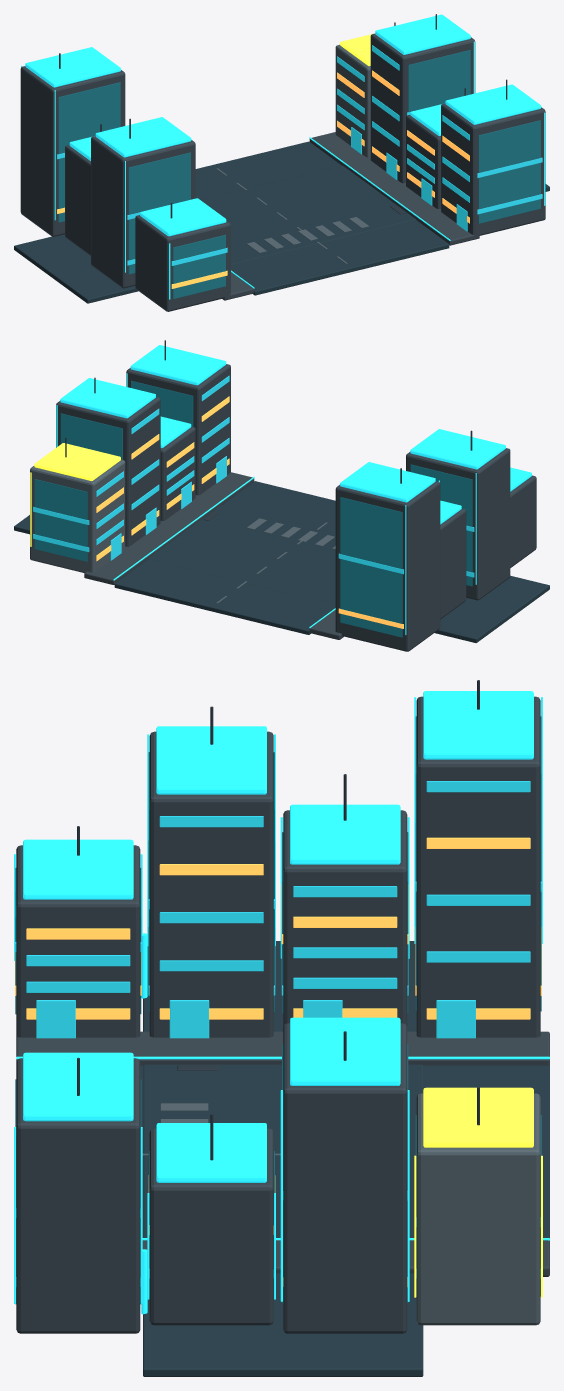
File: crossroads_lod0.glb
The picture shows the model from 3 angles, top to bottom: view 1: azimuth 30°, elevation 25°; view 2: azimuth 150°, elevation 25°; view 3: azimuth 270°, elevation 25°; orthographic projection. The views are drawn at different scales.
Visible parts, largest first — view 1: ND_Batch_ND_CityConcrete, ND_Batch_ND_WetAsphalt, ND_Batch_ND_DarkGlass, ND_Batch_ND_CityCyanMuted, ND_Batch_ND_NeonGlass, ND_Batch_ND_RoadEdge, ND_Batch_ND_CityConcreteLight, ND_Batch_ND_WarmWindow, ND_Batch_ND_PackageGold; view 2: ND_Batch_ND_CityConcrete, ND_Batch_ND_WetAsphalt, ND_Batch_ND_DarkGlass, ND_Batch_ND_CityCyanMuted, ND_Batch_ND_CityConcreteLight, ND_Batch_ND_RoadEdge, ND_Batch_ND_NeonGlass, ND_Batch_ND_PackageGold, ND_Batch_ND_WarmWindow; view 3: ND_Batch_ND_CityConcrete, ND_Batch_ND_CityCyanMuted, ND_Batch_ND_WetAsphalt, ND_Batch_ND_CityConcreteLight, ND_Batch_ND_NeonGlass, ND_Batch_ND_RoadEdge, ND_Batch_ND_WarmWindow, ND_Batch_ND_PackageGold, ND_Batch_ND_DarkGlass, ND_Batch_ND_RooftopMetal.
Boxes of the visible parts, box(x1,y1,x2,y2) form: ND_Batch_ND_CityConcrete: box(20, 33, 545, 311); ND_Batch_ND_WetAsphalt: box(14, 141, 549, 303); ND_Batch_ND_DarkGlass: box(58, 50, 540, 298); ND_Batch_ND_CityCyanMuted: box(21, 14, 545, 299); ND_Batch_ND_NeonGlass: box(57, 45, 542, 265); ND_Batch_ND_RoadEdge: box(222, 132, 479, 300); ND_Batch_ND_CityConcreteLight: box(216, 44, 370, 263); ND_Batch_ND_WarmWindow: box(57, 70, 469, 288); ND_Batch_ND_PackageGold: box(340, 33, 373, 66); ND_Batch_ND_CityConcrete: box(56, 364, 536, 651); ND_Batch_ND_WetAsphalt: box(14, 481, 549, 642); ND_Batch_ND_DarkGlass: box(34, 380, 472, 637); ND_Batch_ND_CityCyanMuted: box(56, 345, 531, 634); ND_Batch_ND_CityConcreteLight: box(30, 459, 335, 603); ND_Batch_ND_RoadEdge: box(84, 472, 343, 639); ND_Batch_ND_NeonGlass: box(33, 375, 474, 577); ND_Batch_ND_PackageGold: box(30, 443, 120, 546); ND_Batch_ND_WarmWindow: box(96, 396, 403, 628); ND_Batch_ND_CityConcrete: box(16, 696, 540, 1333); ND_Batch_ND_CityCyanMuted: box(14, 691, 549, 1314); ND_Batch_ND_WetAsphalt: box(140, 941, 549, 1376); ND_Batch_ND_CityConcreteLight: box(142, 1093, 540, 1325); ND_Batch_ND_NeonGlass: box(15, 781, 541, 1286); ND_Batch_ND_RoadEdge: box(16, 1031, 549, 1276); ND_Batch_ND_WarmWindow: box(15, 837, 541, 1286); ND_Batch_ND_PackageGold: box(414, 1087, 542, 1297); ND_Batch_ND_DarkGlass: box(15, 716, 541, 1304); ND_Batch_ND_RooftopMetal: box(77, 680, 479, 1160).
Bounding box in the file's own units: 38 × 13.43 × 20.09.
